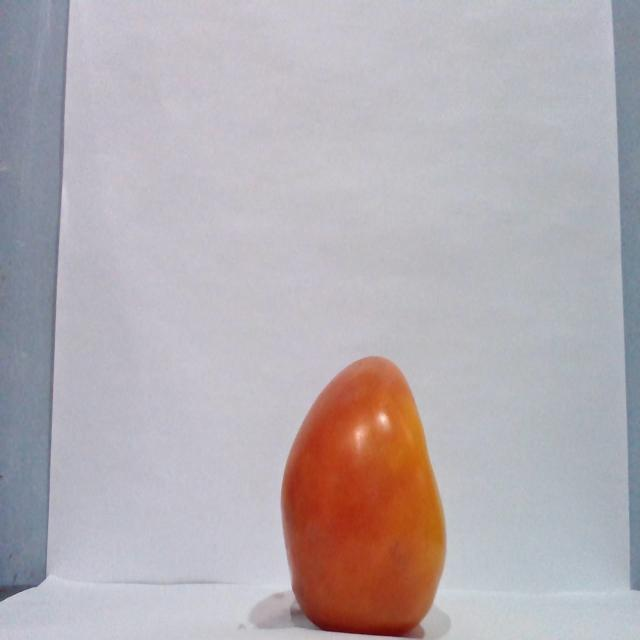Red: (279, 354, 447, 635)
